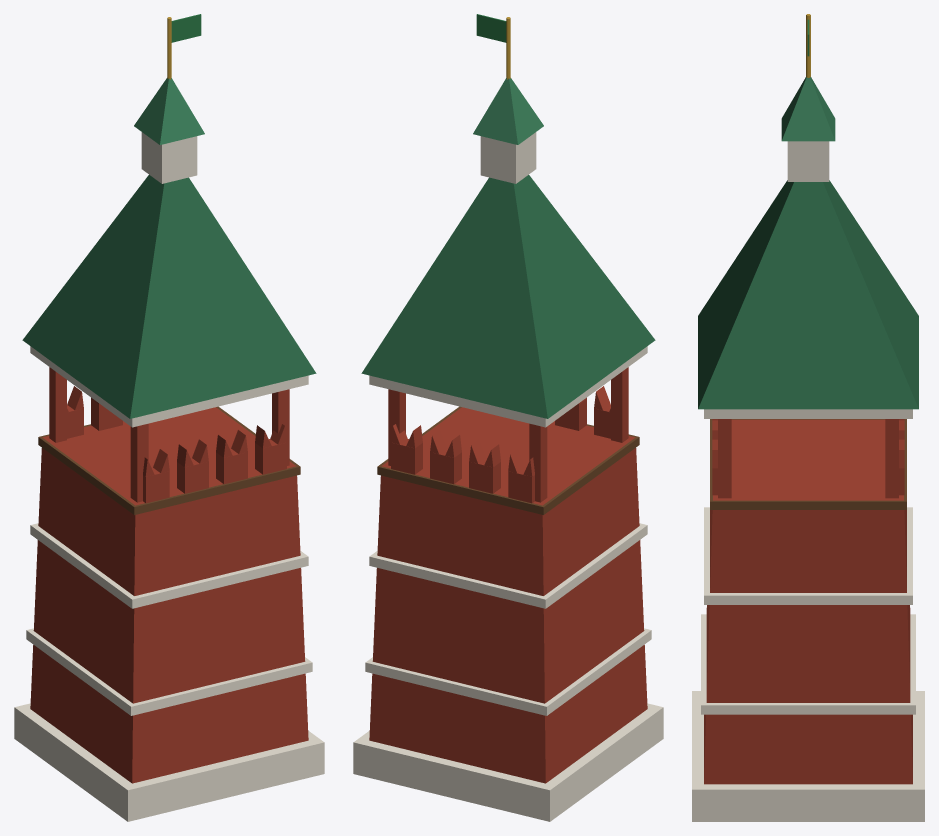
File: tower.glb
3 views of the same model, side by side, from view 1: azimuth 30°, elevation 25°; view 2: azimuth 150°, elevation 25°; view 3: azimuth 270°, elevation 25° (orthographic). The views are drawn at different scales.
Visible parts, largest first — view 1: Tower; view 2: Tower; view 3: Tower.
Boxes of the visible parts, box(x1,y1,x2,y2) form: Tower: box(14, 14, 324, 821); Tower: box(353, 14, 663, 821); Tower: box(692, 14, 924, 821).
Bounding box in the file's own units: 7.8 × 28 × 7.8.
